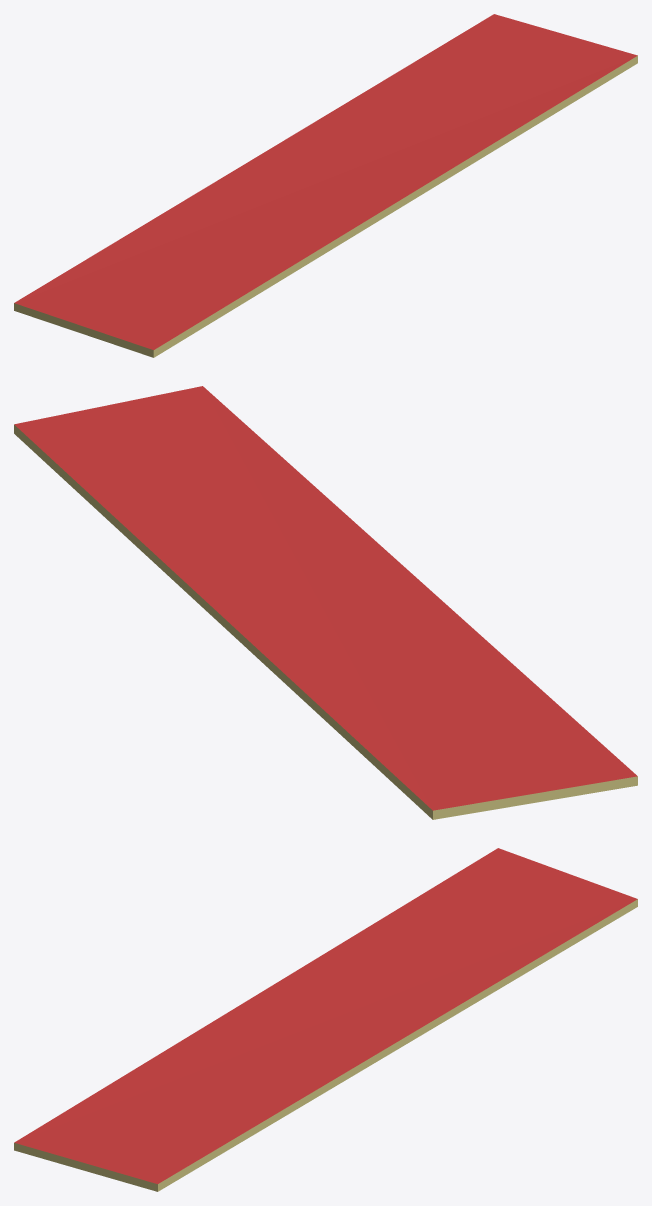
The picture shows the model from 3 angles, top to bottom: view 1: azimuth 90°, elevation 25°; view 2: azimuth 150°, elevation 25°; view 3: azimuth 270°, elevation 25°; orthographic projection. The views are drawn at different scales.
Visible parts, largest first — view 1: group_3, group_4; view 2: group_3, group_4; view 3: group_3, group_4.
Boxes of the visible parts, x1,y1,x2,y2 form: group_3: [14, 14, 637, 349]; group_4: [14, 56, 637, 357]; group_3: [14, 386, 637, 810]; group_4: [14, 424, 637, 819]; group_3: [14, 848, 637, 1183]; group_4: [14, 899, 637, 1191].
Size of the model in its own units: 9.32 by 7.31 by 0.125.
